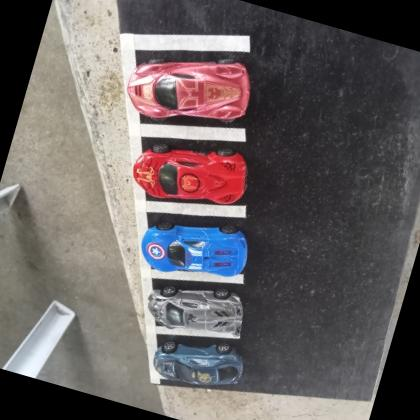Car: (120, 32, 258, 141), (126, 124, 255, 220), (134, 204, 254, 293), (142, 270, 250, 347), (148, 326, 248, 398)
